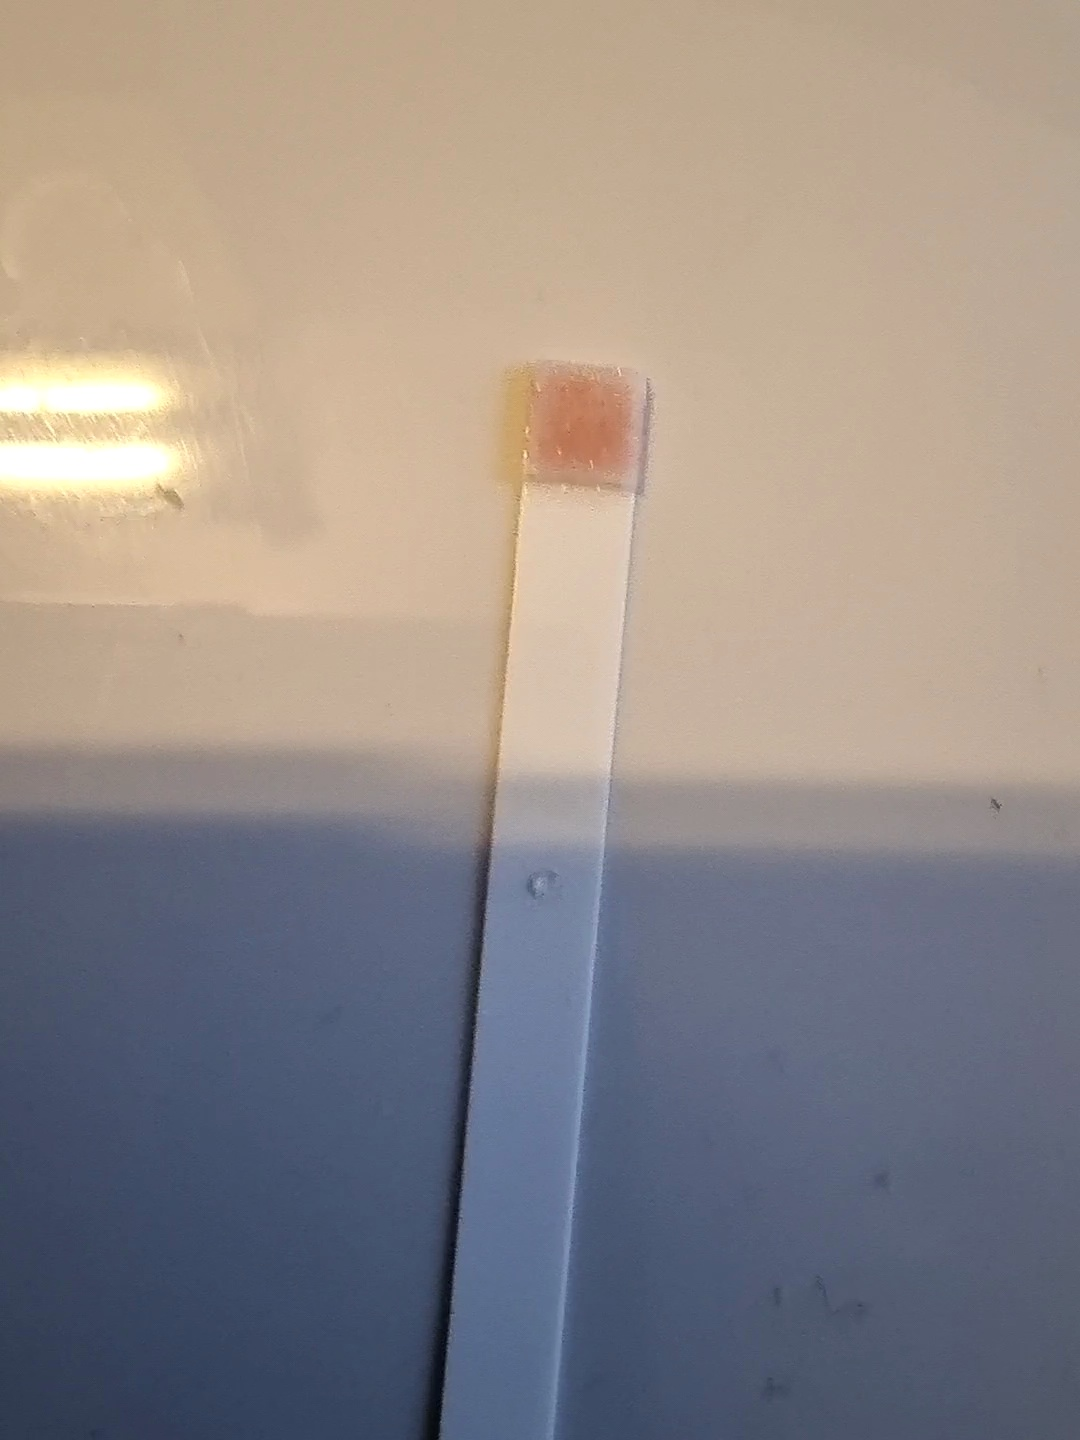keto-tip: (516, 351, 656, 501)
